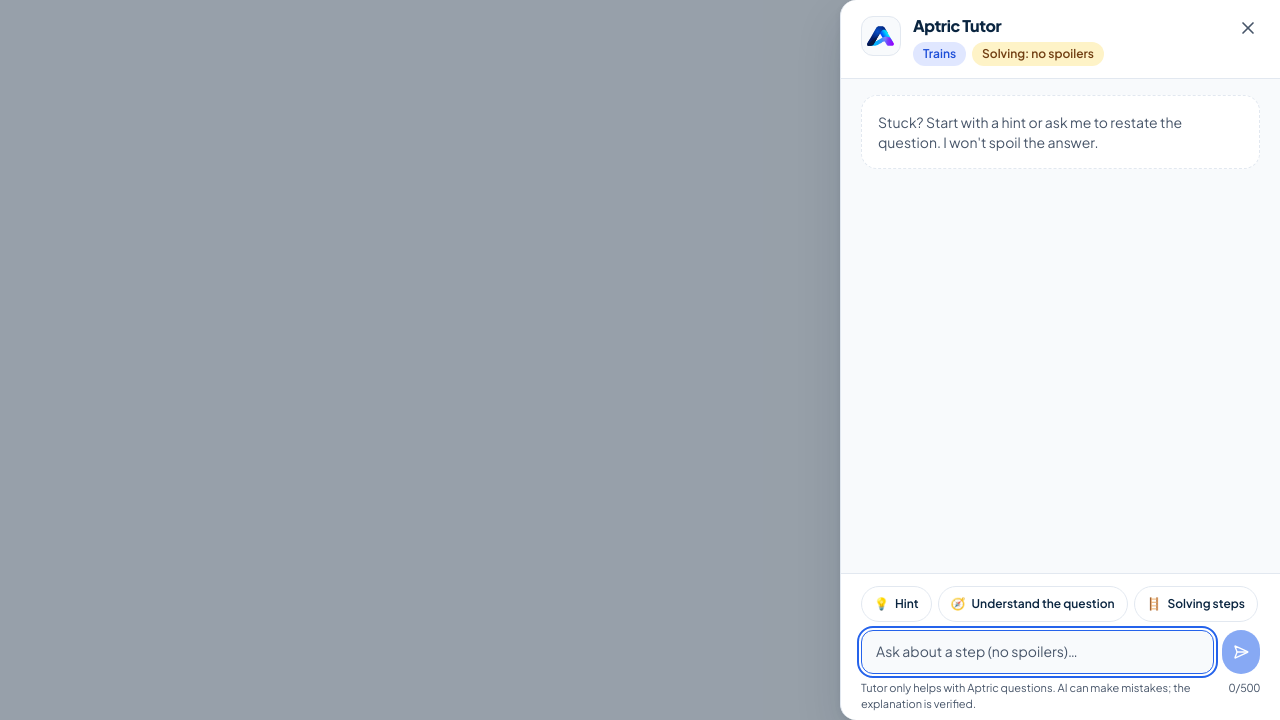
Test: TutorPanel › a 503 on send switches to the fallback
Step 1. Click the button "💡 Hint" → {"x": 896, "y": 604}, box x1=861 y1=586 x2=932 y2=622
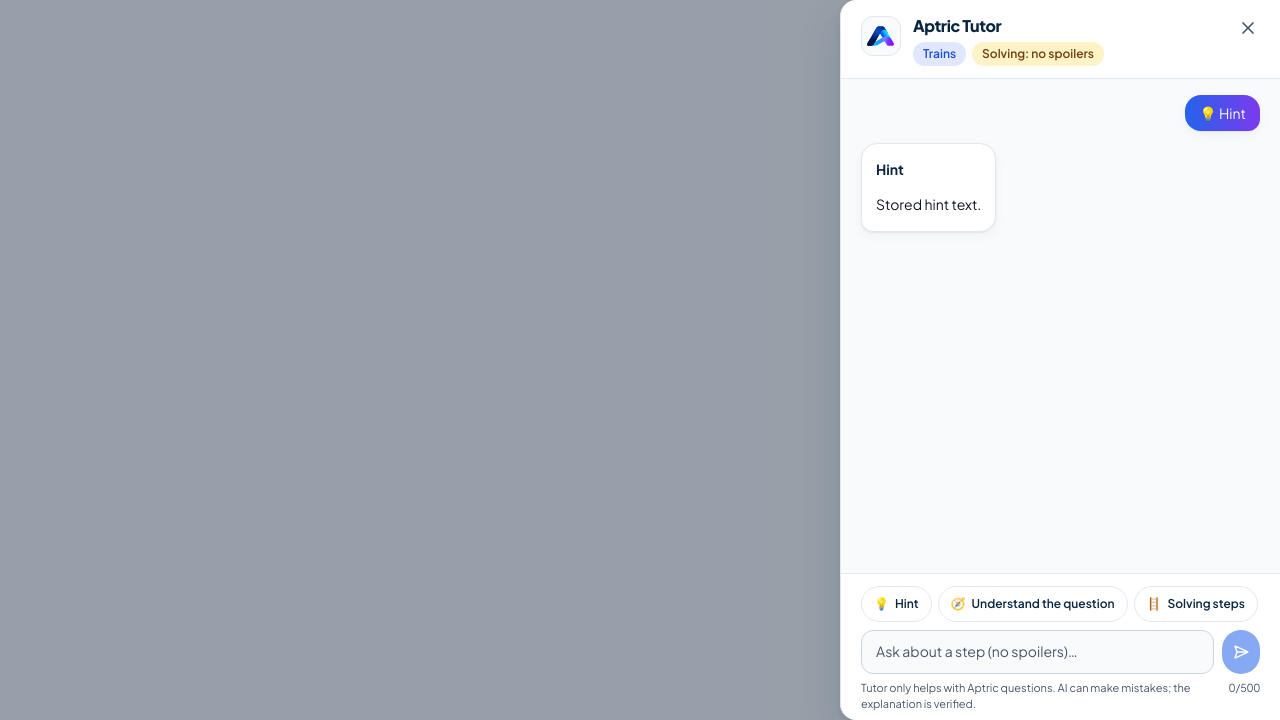
expect the text "Stored hint text." is shown: met, box x1=876 y1=193 x2=981 y2=217
